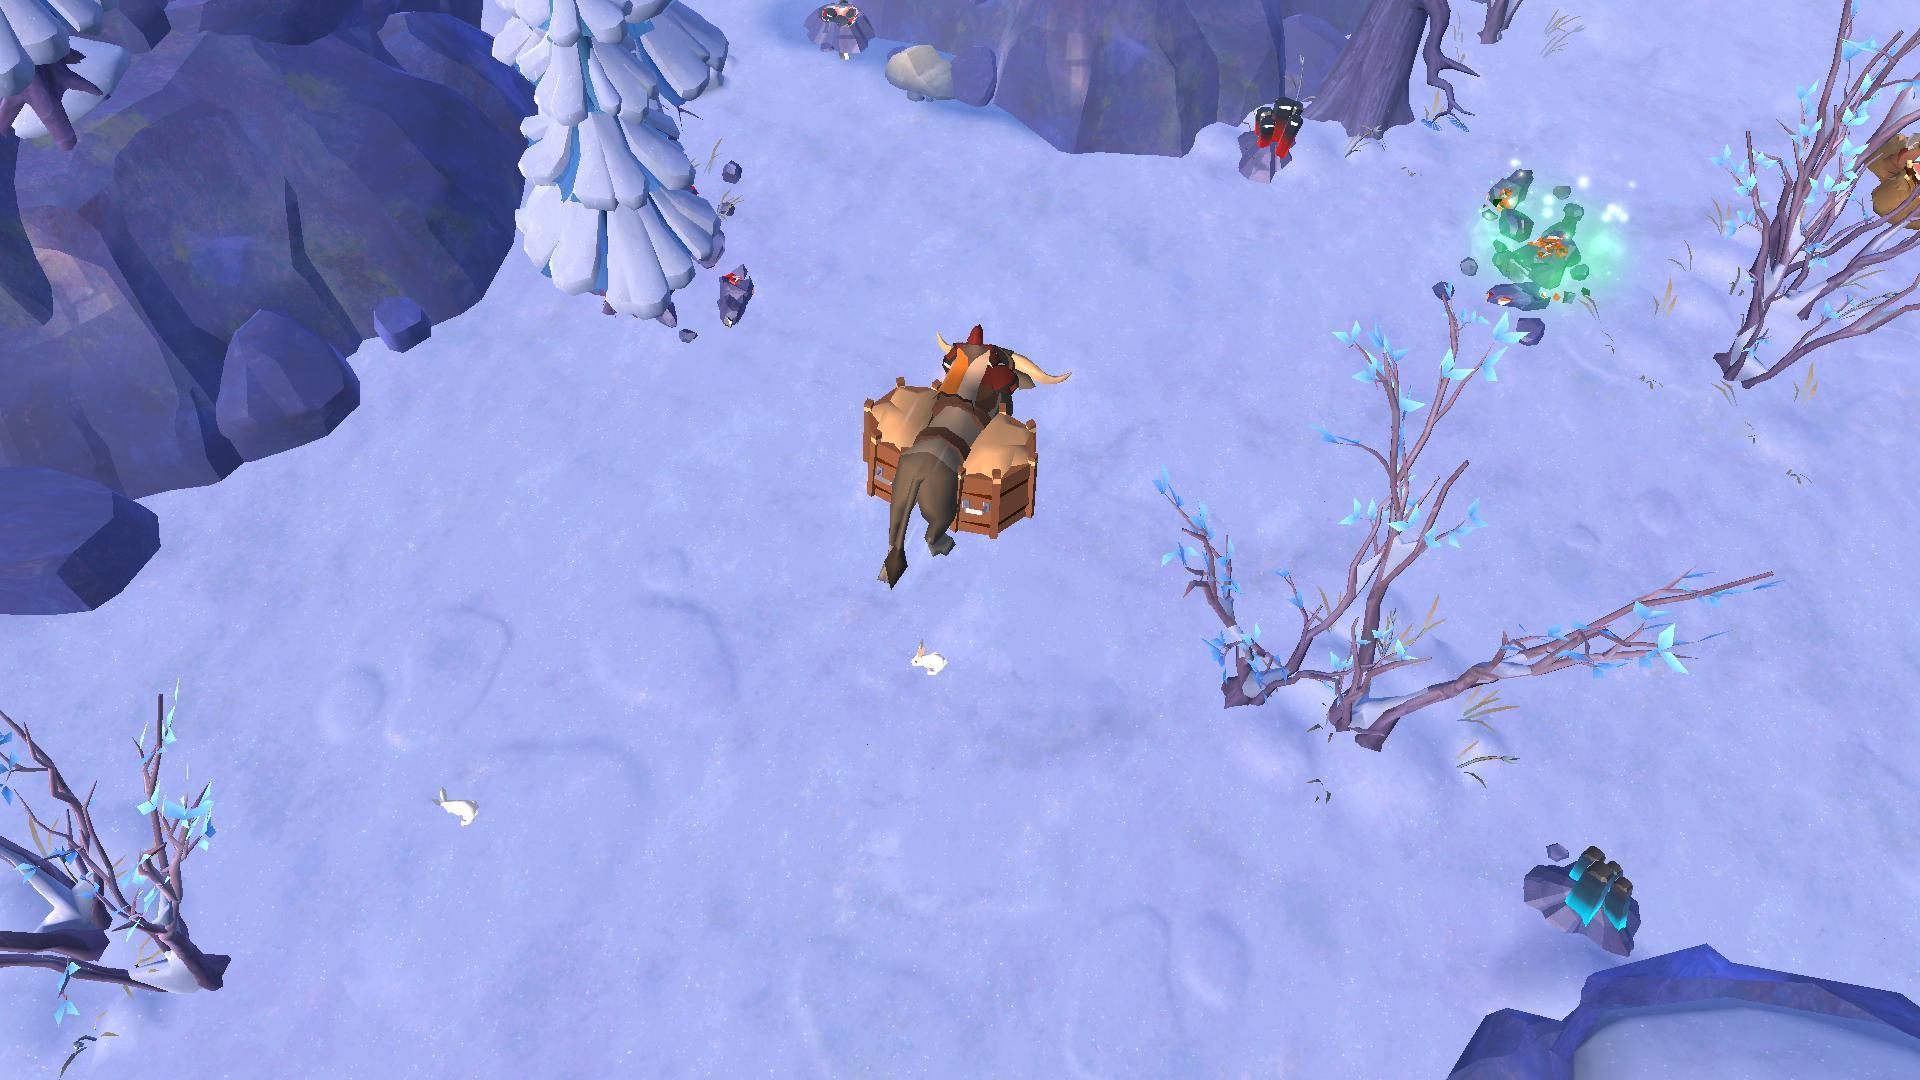ore_t4: (1560, 835, 1635, 934)
ore_t5: (1250, 90, 1302, 156)
